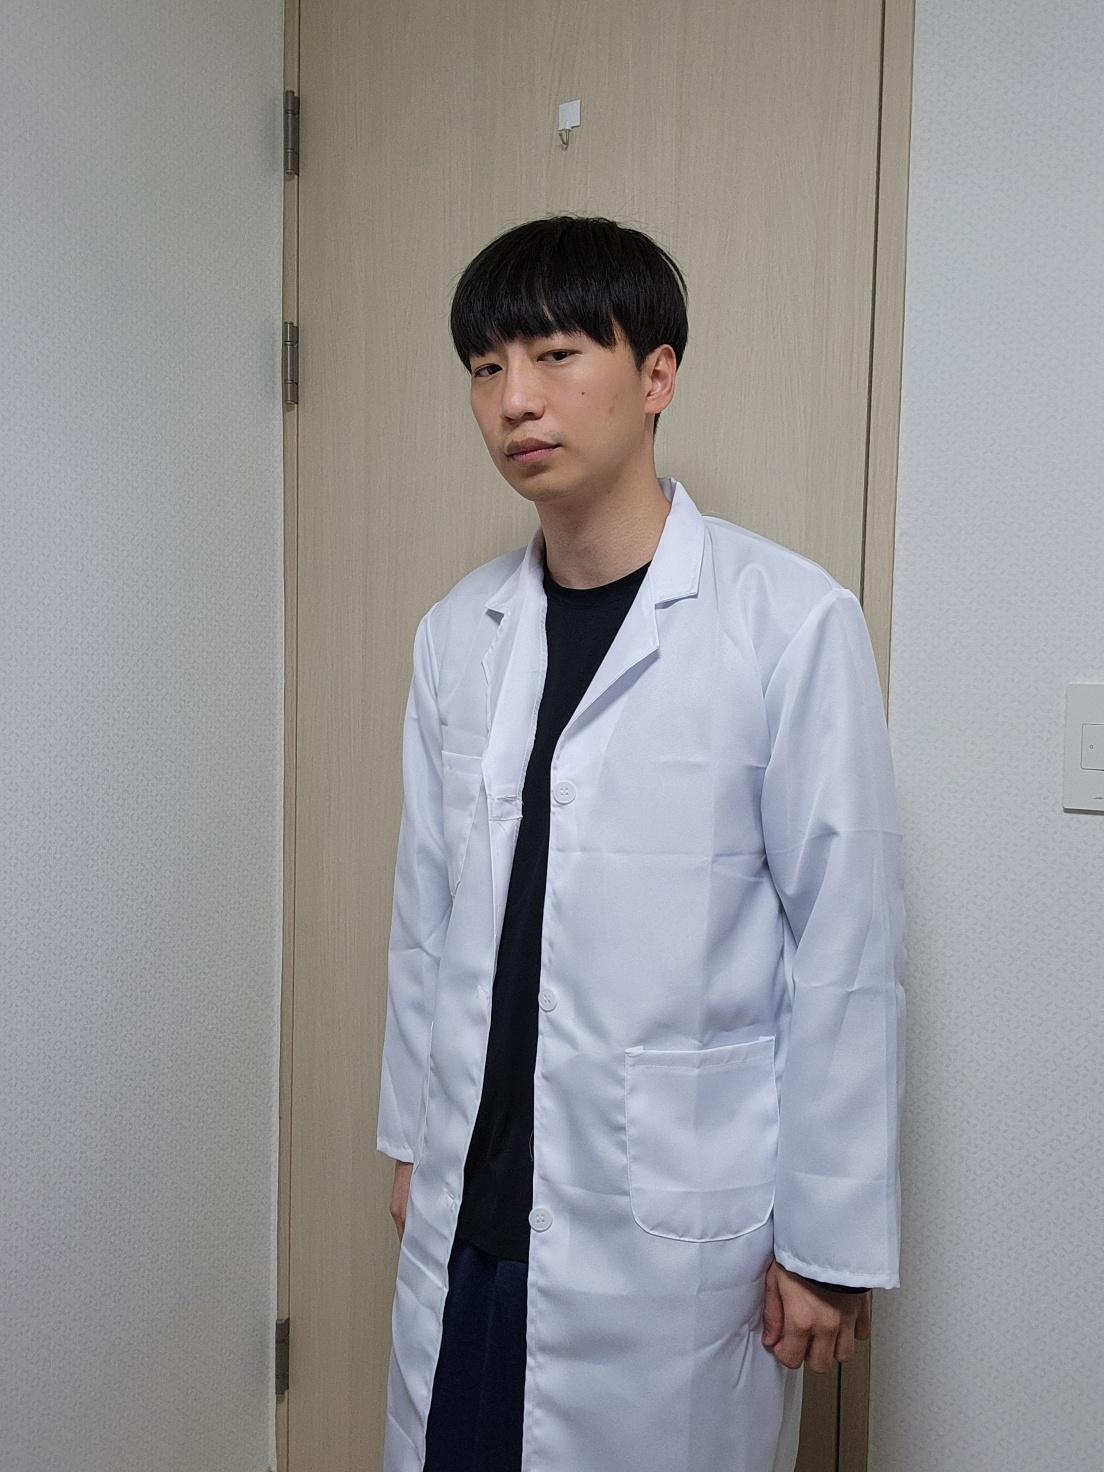lab_coat: (378, 476, 905, 1471)
